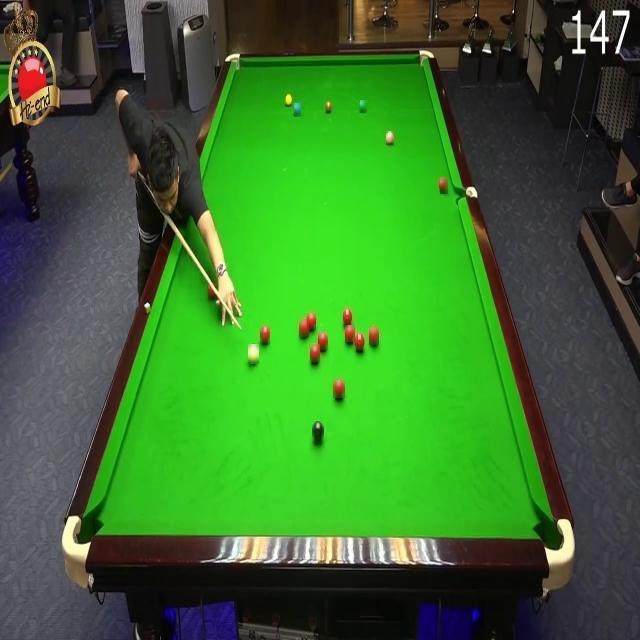Ball: (312, 421, 324, 444), (248, 344, 259, 364), (355, 333, 366, 353), (333, 380, 345, 398), (260, 326, 270, 344), (299, 319, 309, 337), (318, 332, 328, 350), (310, 344, 320, 362), (369, 327, 379, 345), (345, 325, 355, 342), (343, 308, 352, 326), (207, 283, 217, 299), (307, 313, 316, 330), (440, 177, 448, 194), (386, 131, 394, 145), (294, 103, 301, 117), (325, 100, 332, 114), (285, 93, 292, 106), (360, 100, 367, 113)
